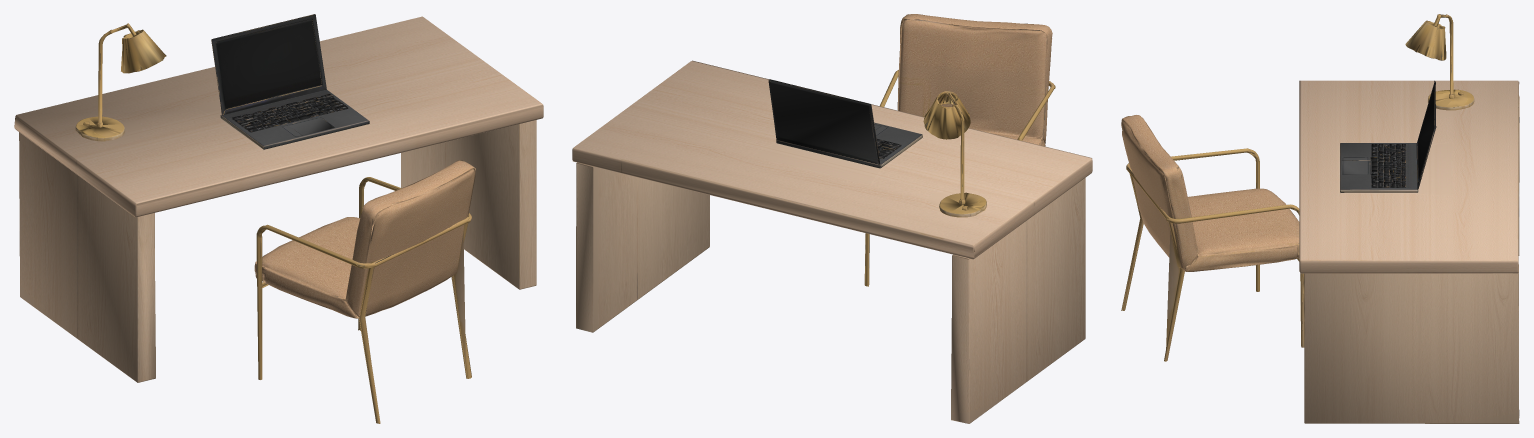
Rendered from desk-office.raw.glb.
3 renders of one model, left to right at view 1: azimuth 30°, elevation 25°; view 2: azimuth 150°, elevation 25°; view 3: azimuth 270°, elevation 25°, orthographic. The views are drawn at different scales.
Bounding box in the file's own units: 0.9512 × 0.645 × 0.8857.
1 material, 1 textured.
